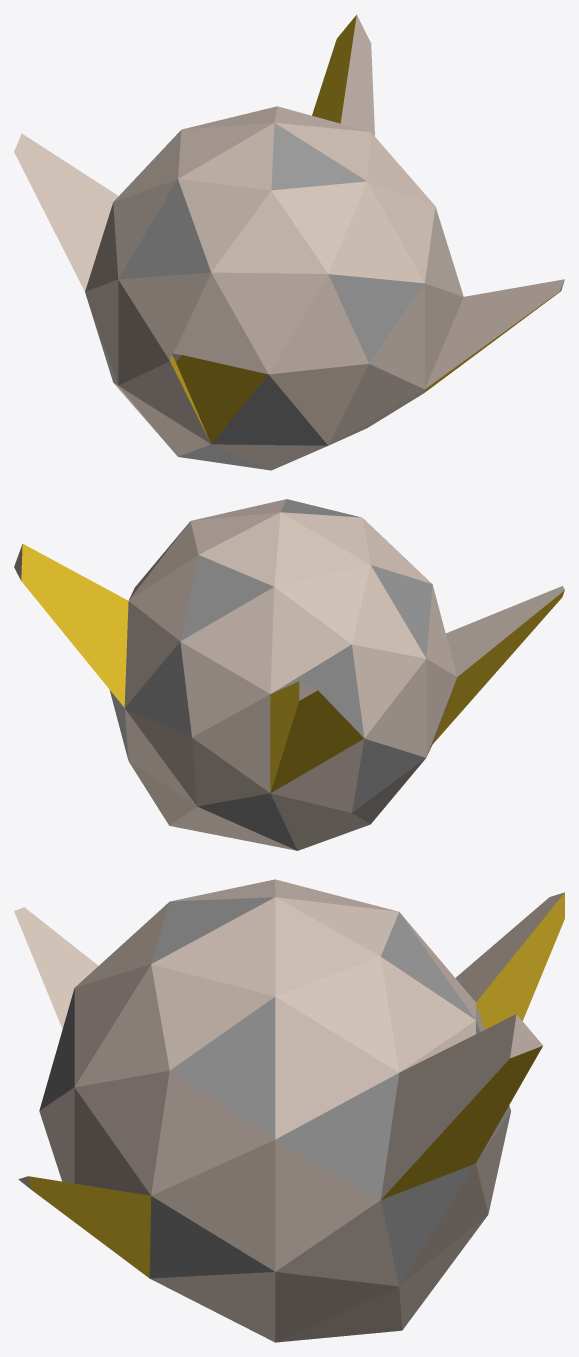
File: EnemyOrb.fbx
The picture shows the model from 3 angles, top to bottom: view 1: azimuth 30°, elevation 25°; view 2: azimuth 150°, elevation 25°; view 3: azimuth 270°, elevation 25°; orthographic projection. The views are drawn at different scales.
Visible parts, largest first — view 1: Enemy2; view 2: Enemy2; view 3: Enemy2.
Part boxes in pixels (x1,y1,x2,y2): Enemy2: [14, 14, 564, 470]; Enemy2: [14, 499, 564, 850]; Enemy2: [14, 879, 564, 1342].
Bounding box in the file's own units: 0.6735 × 0.5403 × 0.6531.
